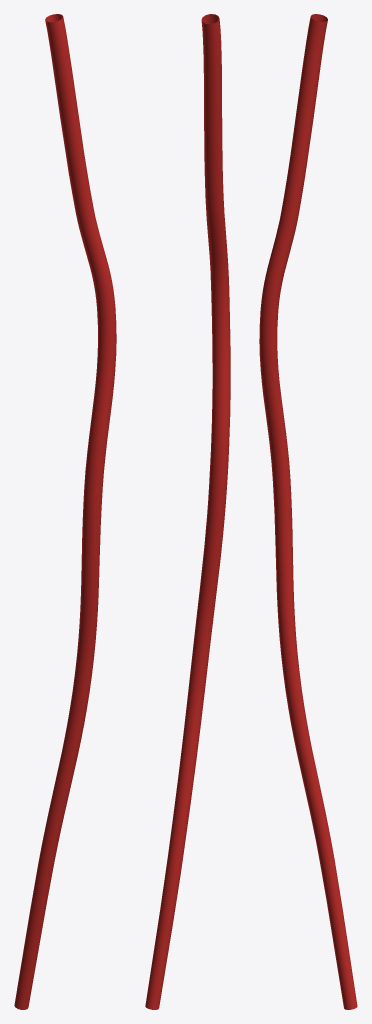
The model's file is circulatorio-superior-epigastric-veins-l.glb.
The picture shows the model from 3 angles, left to right: view 1: azimuth 90°, elevation 25°; view 2: azimuth 150°, elevation 25°; view 3: azimuth 270°, elevation 25°; orthographic projection. The views are drawn at different scales.
Visible parts, largest first — view 1: Superior epigastric veins.l; view 2: Superior epigastric veins.l; view 3: Superior epigastric veins.l.
Boxes of the visible parts, x1,y1,x2,y2 form: Superior epigastric veins.l: (14,14,116,1009); Superior epigastric veins.l: (145,14,230,1009); Superior epigastric veins.l: (259,14,357,1009).
Size of the model in its own units: 0.00932 by 0.1567 by 0.0143.
